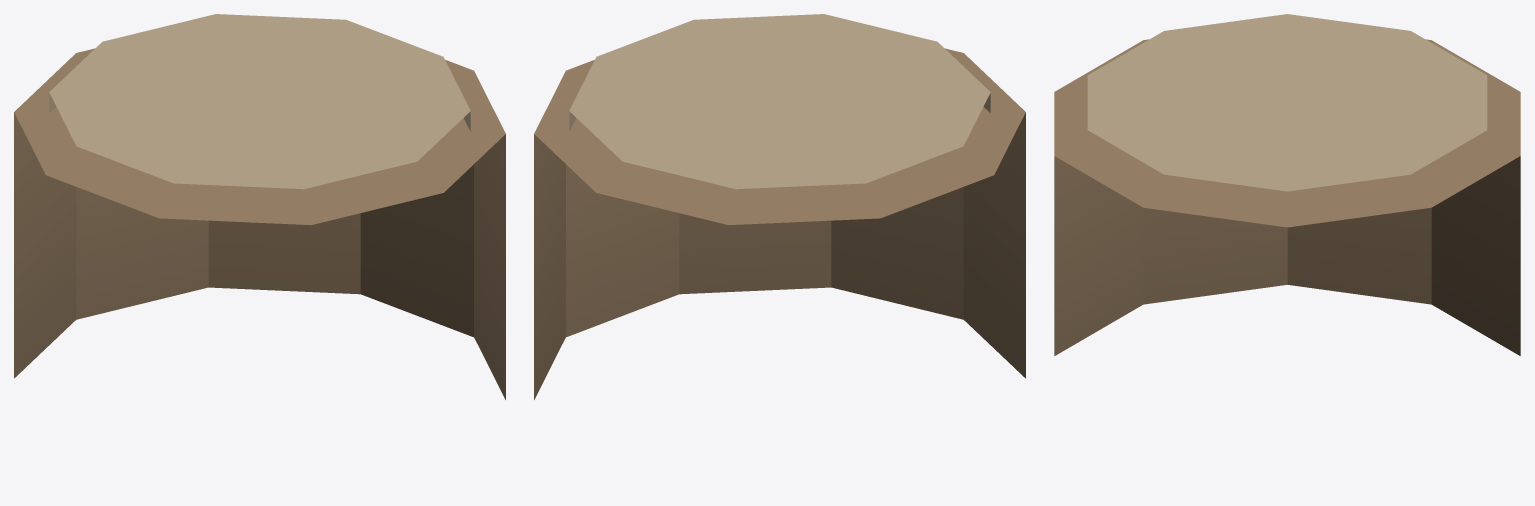
The model's file is stump.glb.
3 views of the same model, side by side, from view 1: azimuth 30°, elevation 25°; view 2: azimuth 150°, elevation 25°; view 3: azimuth 270°, elevation 25° (orthographic).
Parts seen in each view (by area): view 1: root; view 2: root; view 3: root.
Boxes of the visible parts, x1,y1,x2,y2 form: root: (14, 14, 505, 399); root: (534, 14, 1025, 399); root: (1054, 14, 1520, 355).
Size of the model in its own units: 0.84 by 0.54 by 0.7989.
